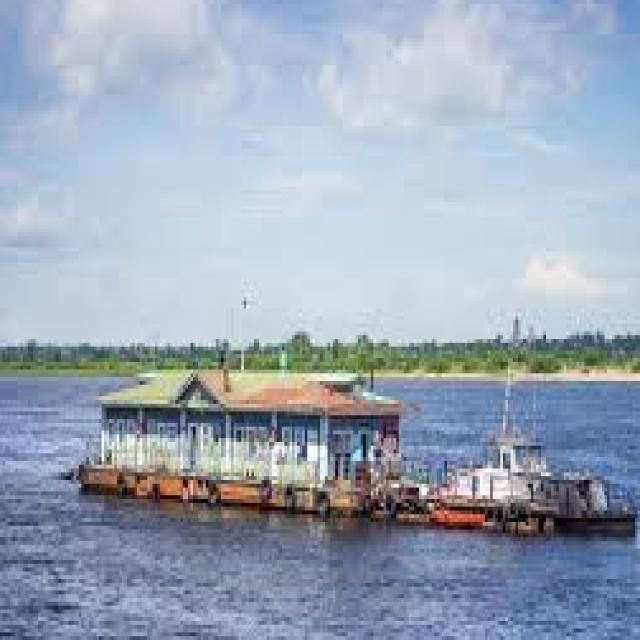houseboat: (68, 316, 640, 541)
